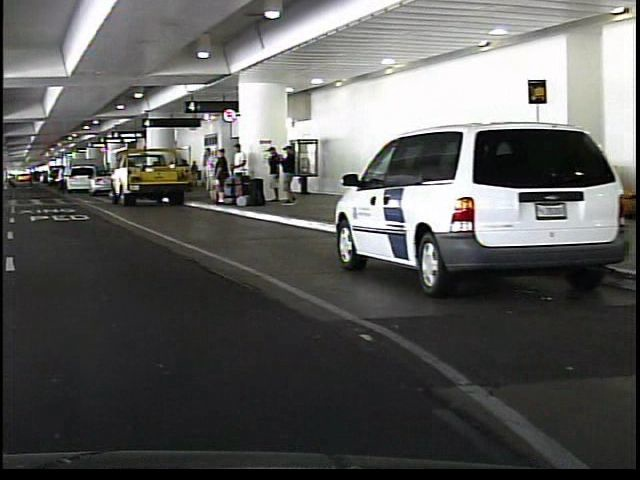person: (197, 142, 216, 203), (278, 143, 295, 207), (53, 163, 65, 195)
